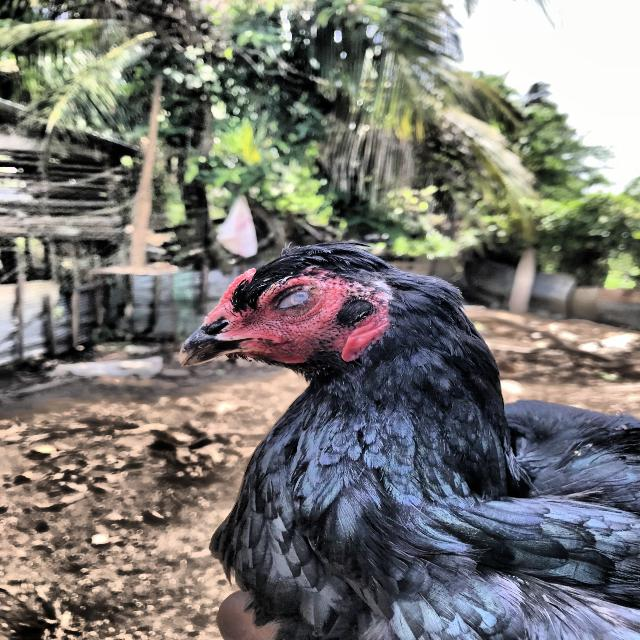Coryza: (131, 243, 640, 640)
